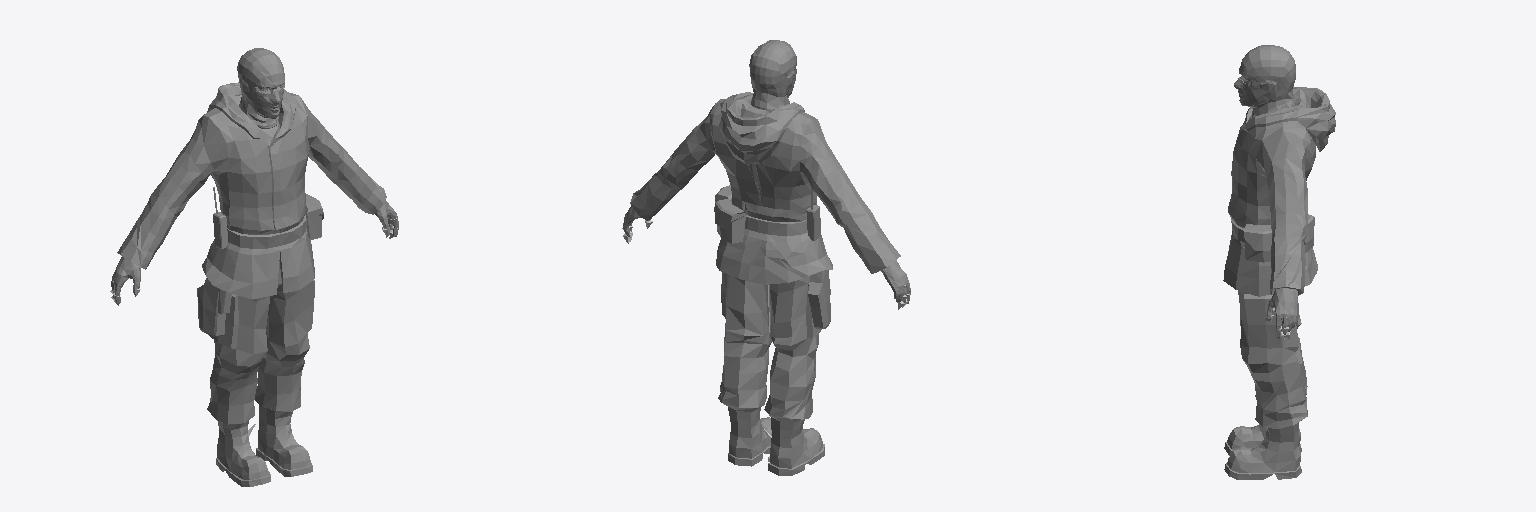
The model's file is Soldier_Mask04.obj.
3 renders of one model, left to right at view 1: azimuth 30°, elevation 25°; view 2: azimuth 150°, elevation 25°; view 3: azimuth 270°, elevation 25°, orthographic.
Visible parts, largest first — view 1: (null); view 2: (null); view 3: (null).
Part boxes in pixels (x1,y1,x2,y2): (null): (110, 48, 398, 486); (null): (622, 40, 910, 475); (null): (1223, 45, 1335, 479).
Bounding box in the file's own units: 54.81 × 77.05 × 18.9.